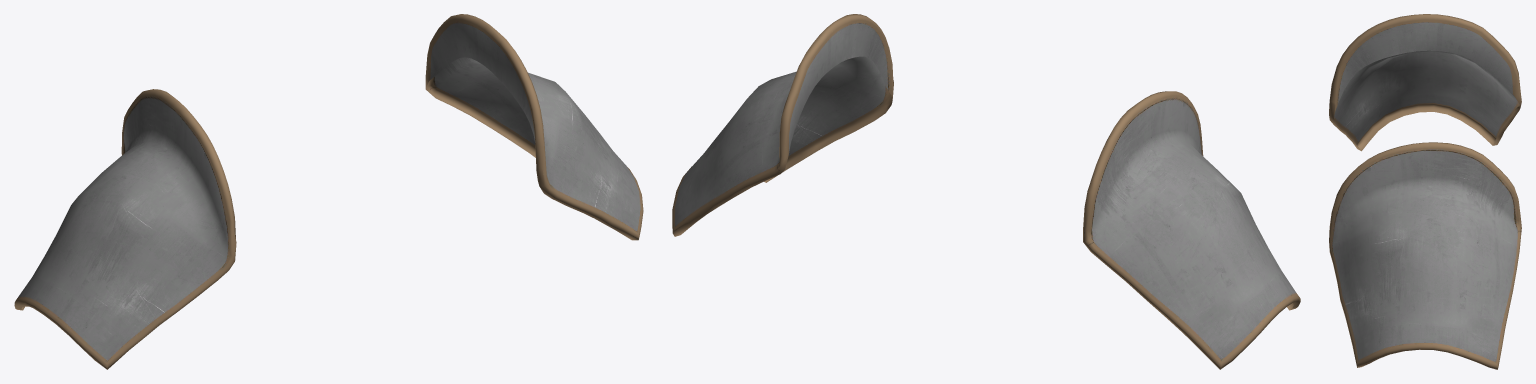
File: swan_knight_pauldrons_a3.fbx
3 renders of one model, left to right at view 1: azimuth 30°, elevation 25°; view 2: azimuth 150°, elevation 25°; view 3: azimuth 270°, elevation 25°, orthographic. The views are drawn at different scales.
Parts seen in each view (by area): view 1: swan_knight_pauldrons_a3; view 2: swan_knight_pauldrons_a3; view 3: swan_knight_pauldrons_a3.
Boxes of the visible parts, x1,y1,x2,y2 form: swan_knight_pauldrons_a3: (14,14,643,369); swan_knight_pauldrons_a3: (672,14,1300,369); swan_knight_pauldrons_a3: (1329,14,1521,369).
Size of the model in its own units: 0.6708 by 0.2255 by 0.233.
Materials: 1 (1 with a texture image).
